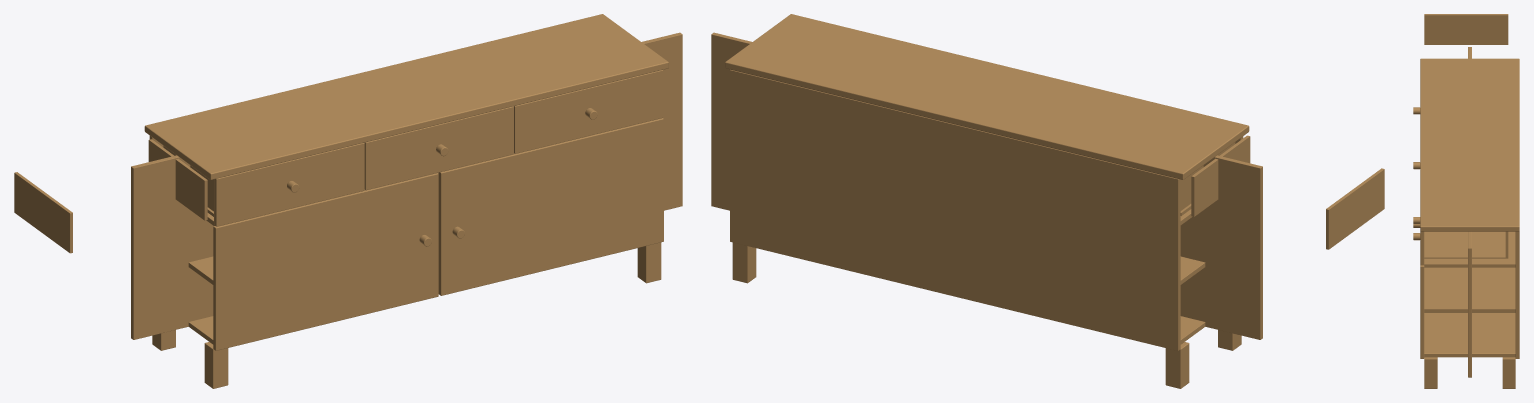
File: Oakley_sideboard.glb
3 views of the same model, side by side, from view 1: azimuth 30°, elevation 25°; view 2: azimuth 150°, elevation 25°; view 3: azimuth 270°, elevation 25° (orthographic). The views are drawn at different scales.
Visible parts, largest first — view 1: top, door_1, door_2, carcass.side_1, drawer.front_1, drawer.front_2, drawer.front_3, carcass.side_2, drawer.side.left_1, drawer.side.right_1, leg_1, leg_2; view 2: carcass.back, top, carcass.side_1, carcass.side_2, drawer.side.left_1, drawer.side.right_1, leg_3, leg_4; view 3: top, carcass.bottom, shelf.fixed, drawer.side.left_1, drawer.base_3, carcass.divider, carcass.back, carcass.side_2, door_2, leg_2, leg_4, drawer.front_3 (+1 smaller).
Part boxes in pixels (box(x1,y1,x2,y2)): top: box(144, 14, 668, 179); door_1: box(213, 173, 438, 350); door_2: box(438, 118, 663, 295); carcass.side_1: box(131, 155, 213, 339); drawer.front_1: box(214, 143, 364, 226); drawer.front_2: box(364, 106, 513, 190); drawer.front_3: box(514, 70, 662, 153); carcass.side_2: box(641, 32, 682, 210); drawer.side.left_1: box(14, 172, 72, 253); drawer.side.right_1: box(148, 139, 207, 220); leg_1: box(204, 342, 228, 388); leg_2: box(637, 242, 661, 283); carcass.back: box(730, 69, 1180, 350); top: box(725, 14, 1249, 179); carcass.side_1: box(1180, 155, 1262, 339); carcass.side_2: box(711, 32, 752, 210); drawer.side.left_1: box(1326, 168, 1384, 249); drawer.side.right_1: box(1191, 135, 1250, 216); leg_3: box(1165, 342, 1189, 388); leg_4: box(732, 242, 756, 283); top: box(1420, 58, 1519, 231); carcass.bottom: box(1424, 312, 1515, 357); shelf.fixed: box(1424, 267, 1515, 312); drawer.side.left_1: box(1424, 14, 1508, 44); drawer.base_3: box(1424, 231, 1506, 258); carcass.divider: box(1424, 231, 1515, 267); carcass.back: box(1515, 231, 1519, 358); carcass.side_2: box(1468, 231, 1471, 377); door_2: box(1420, 265, 1424, 358); leg_2: box(1424, 357, 1437, 388); leg_4: box(1502, 357, 1515, 388); drawer.front_3: box(1420, 231, 1424, 265).
Bounding box in the file's own units: 2.52 × 0.82 × 0.482.
